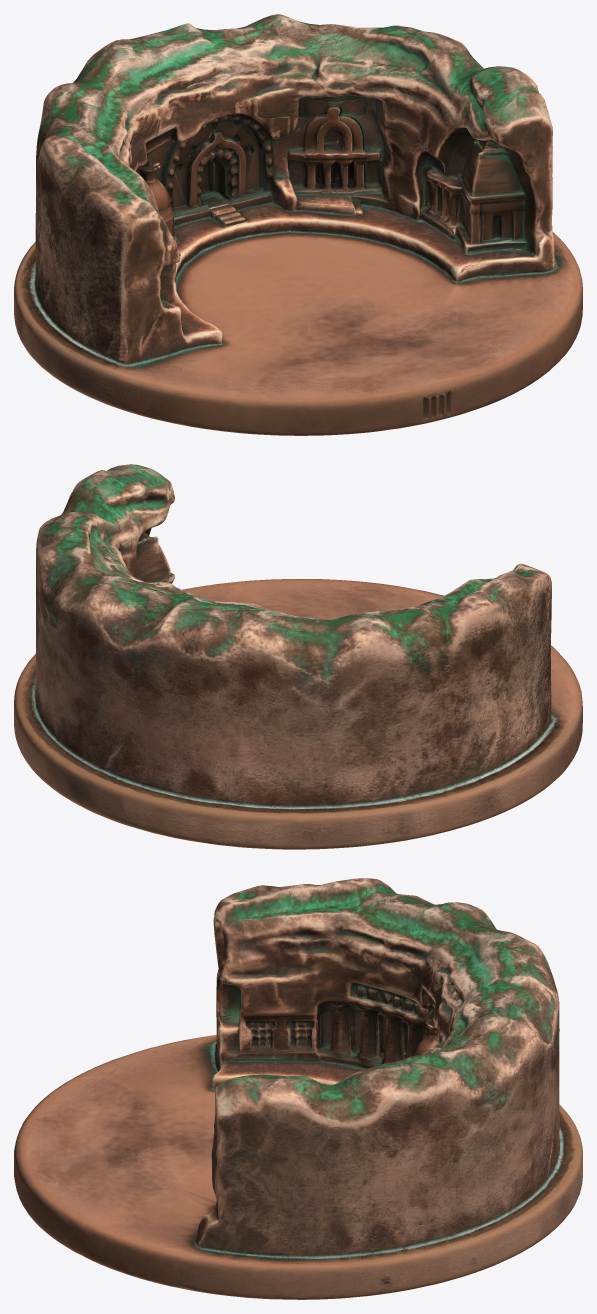
The model's file is ajanta_caves.glb.
3 views of the same model, one above another, from view 1: azimuth 30°, elevation 25°; view 2: azimuth 150°, elevation 25°; view 3: azimuth 270°, elevation 25° (orthographic).
Visible parts, largest first — view 1: Mesh_0; view 2: Mesh_0; view 3: Mesh_0.
Part boxes in pixels (left/top/right/bottom): Mesh_0: left=14, top=14, right=582, bottom=435; Mesh_0: left=14, top=464, right=582, bottom=849; Mesh_0: left=14, top=878, right=582, bottom=1299.
Bounding box in the file's own units: 1.91 × 0.7796 × 1.91.
1 material, 1 textured.
